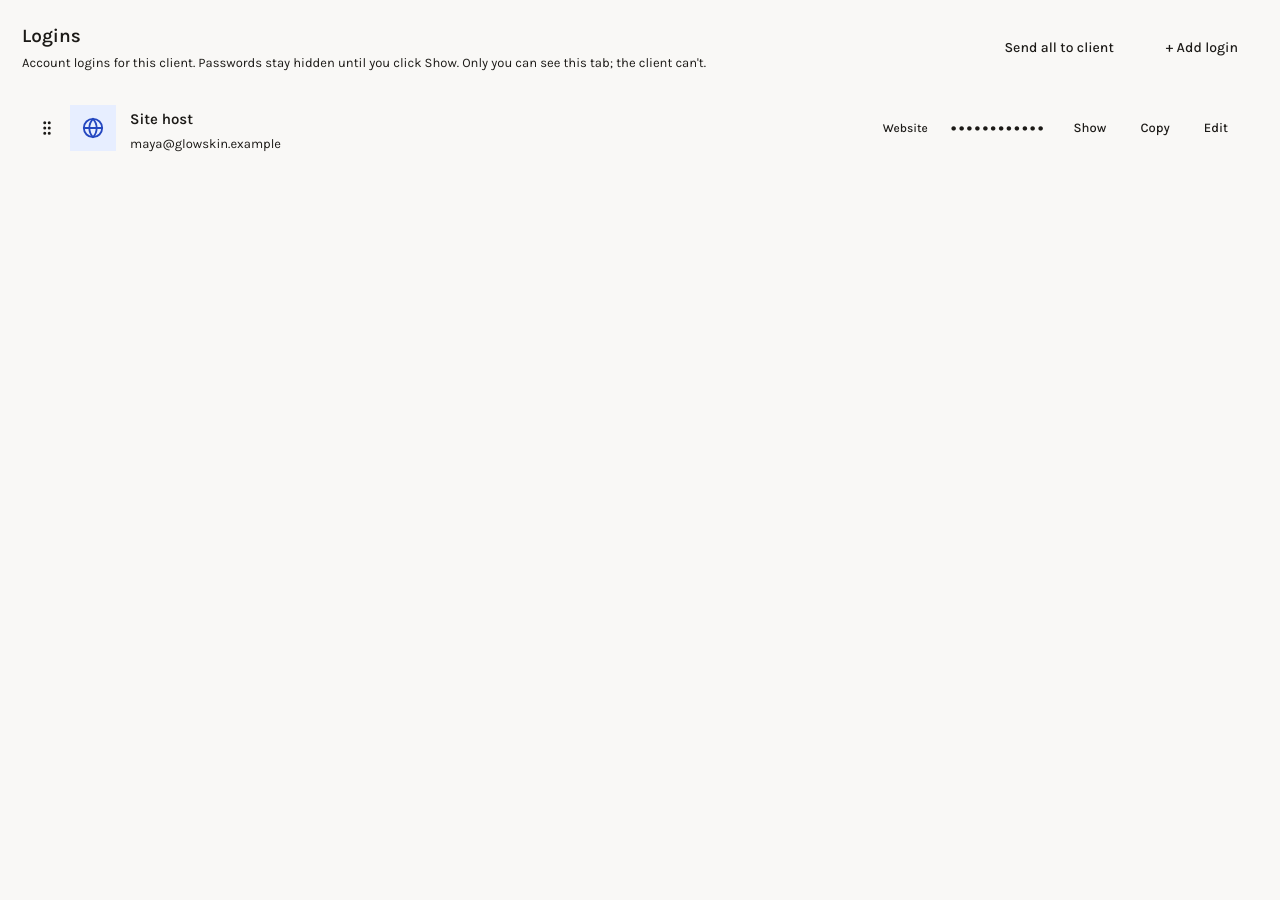
the admin login form's project field › offers this client's projects, including an empty choice, when adding
The image size is (1280, 900).
Click the button "+ Add login".
click(1202, 47)  # box left=1146, top=24, right=1258, bottom=70
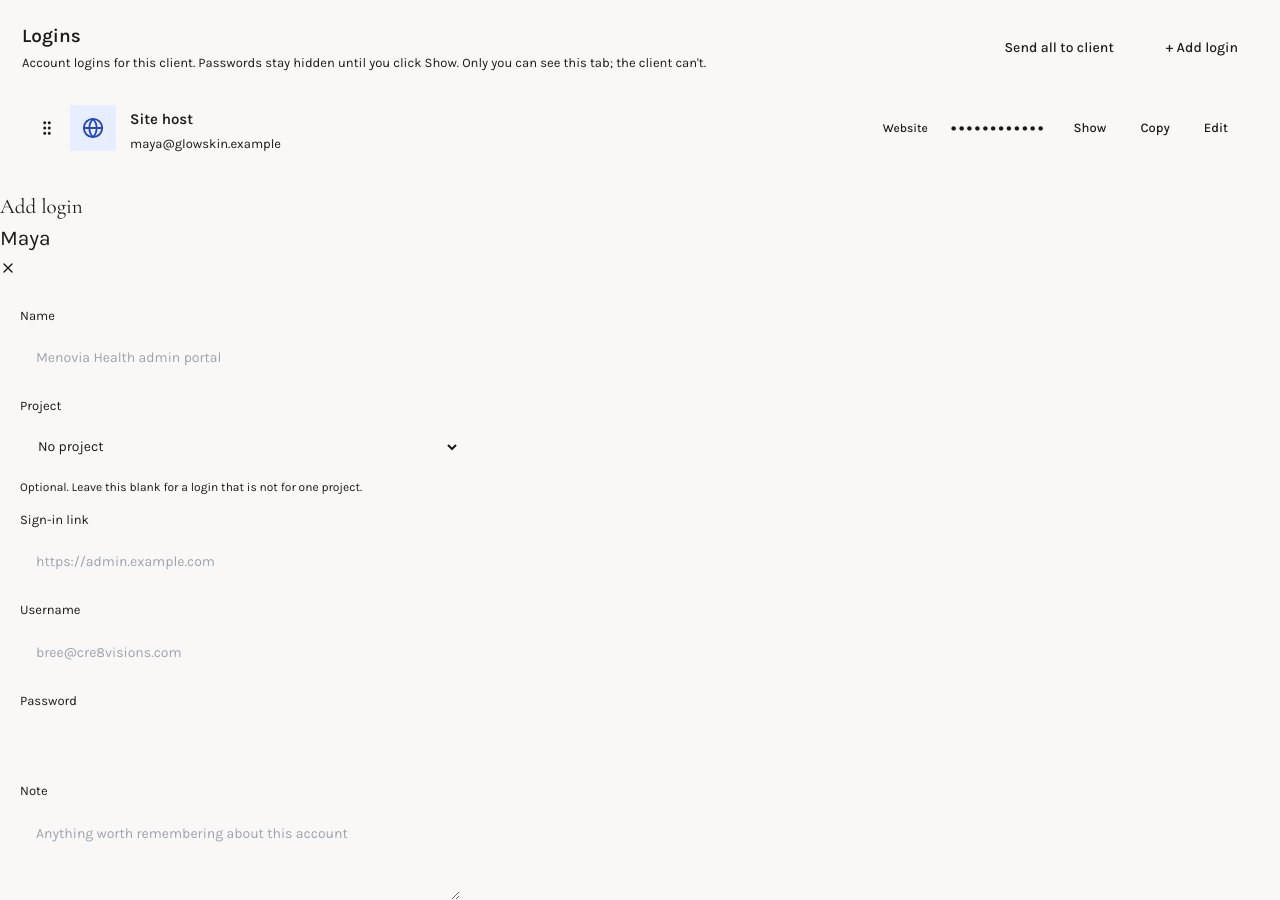
expect the dropdown labelled "Project" shows "No project": met, box left=20, top=424, right=460, bottom=470
